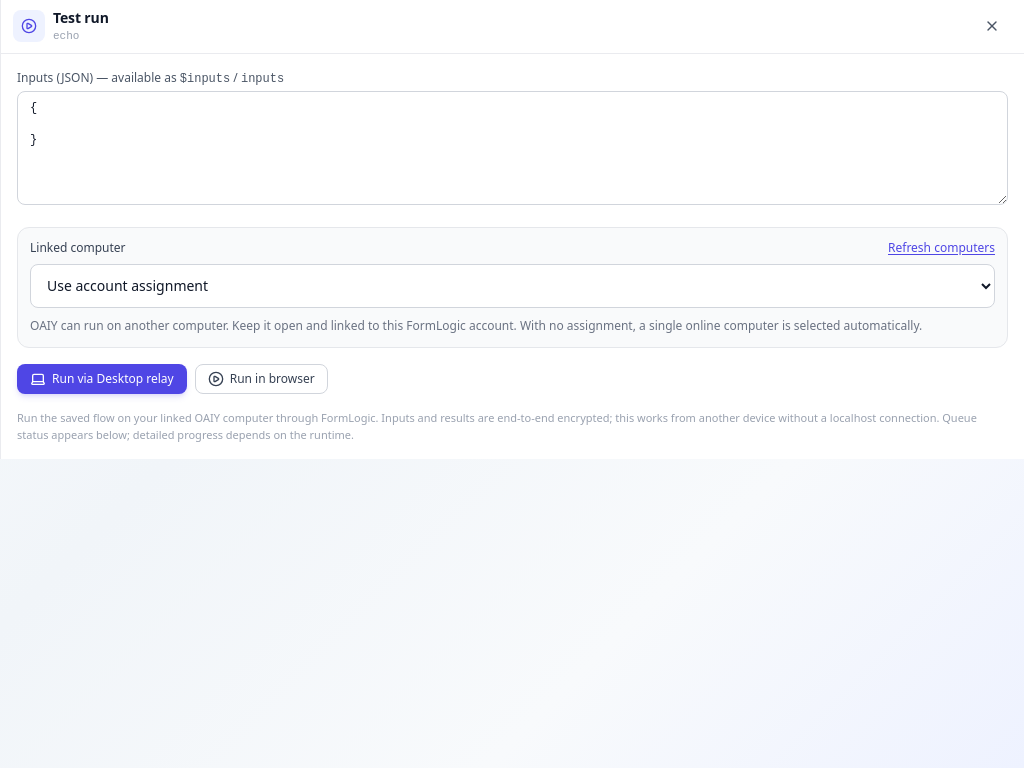
Test: TestRunDrawer — run dispatch per executionLocation › desktop relay and Python code › follows the explicitly selected computer
Expected: the button "Run via Desktop relay" is enabled, [17,364,187,394]
Select "Office PC · Online · office" in the dropdown labelled "Linked computer" at {"x": 512, "y": 286}, box [30,264,995,308]
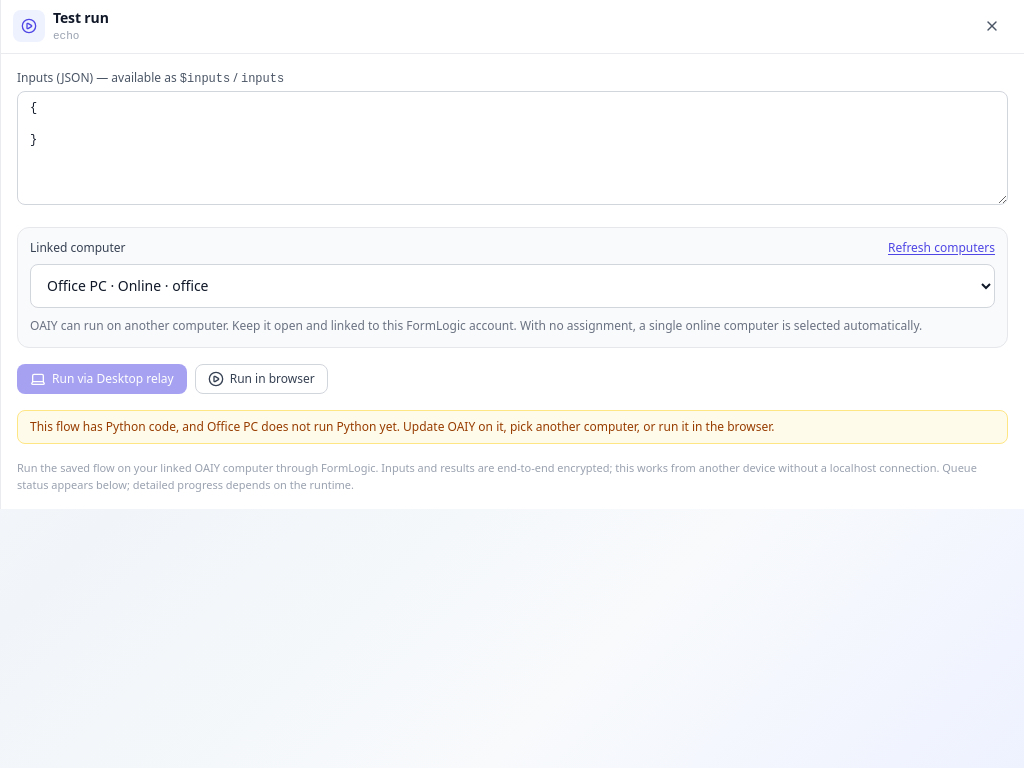
Result: the button "Run via Desktop relay" is disabled at [17,364,187,394]
Result: the text with test id "relay-language-note" shows "Office PC" at [30,418,774,435]
Select "Home PC · Online · y-home" in the dropdown labelled "Linked computer" at {"x": 512, "y": 286}, box [30,264,995,308]
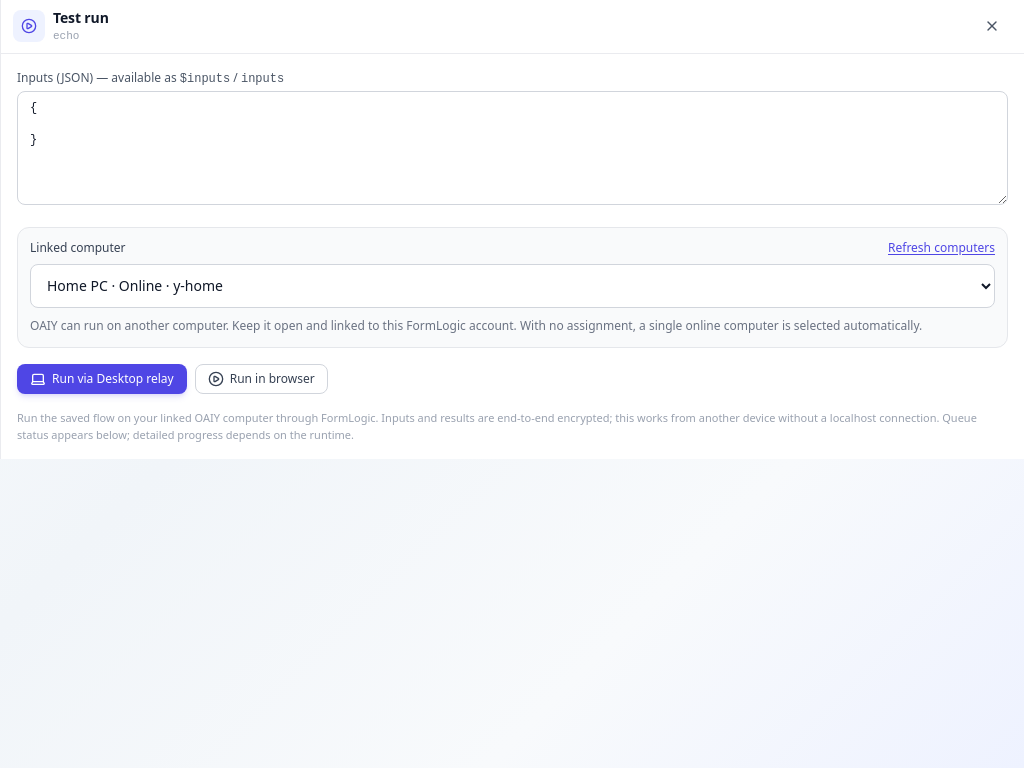
Result: the button "Run via Desktop relay" is enabled at [17,364,187,394]
